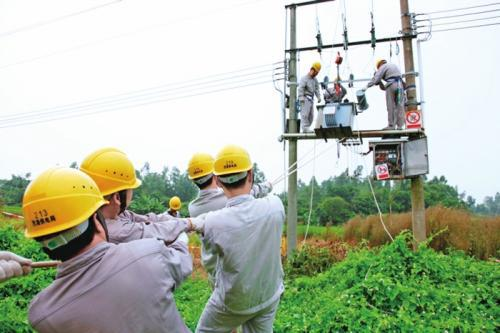helmet: (21, 158, 120, 251), (77, 142, 148, 220), (207, 137, 256, 197), (184, 143, 221, 194), (167, 193, 181, 215), (374, 55, 388, 74), (309, 61, 324, 78)
